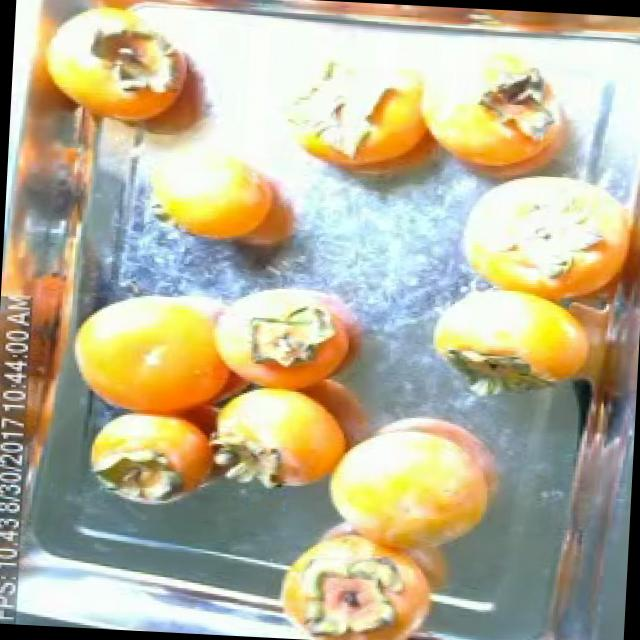Fruit: (59, 268, 258, 432), (77, 396, 226, 511)
